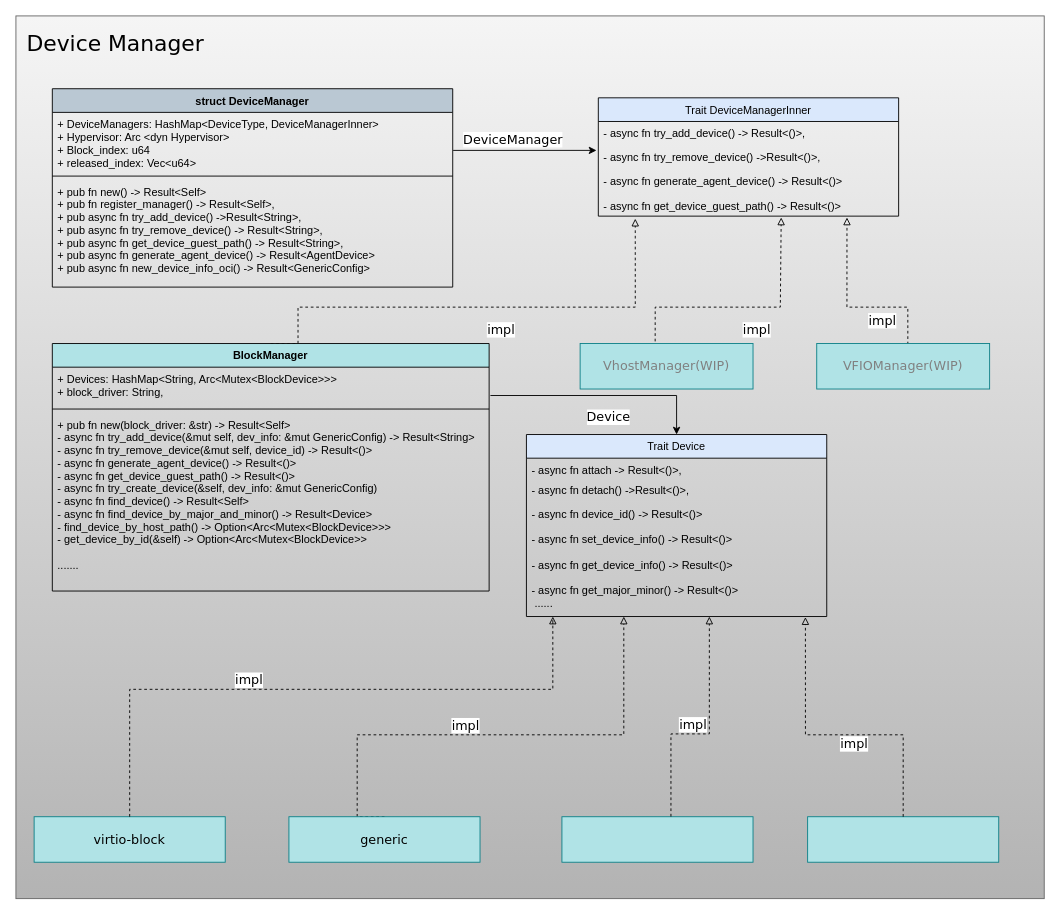
The diagram is 1060 pixels wide and 915 high, and some of its shapes have lost their labels. The centre of each missing label's shape, as x and y in pixels:
vfio(WIP): point 903,839
vhost(WIP): point 657,839
